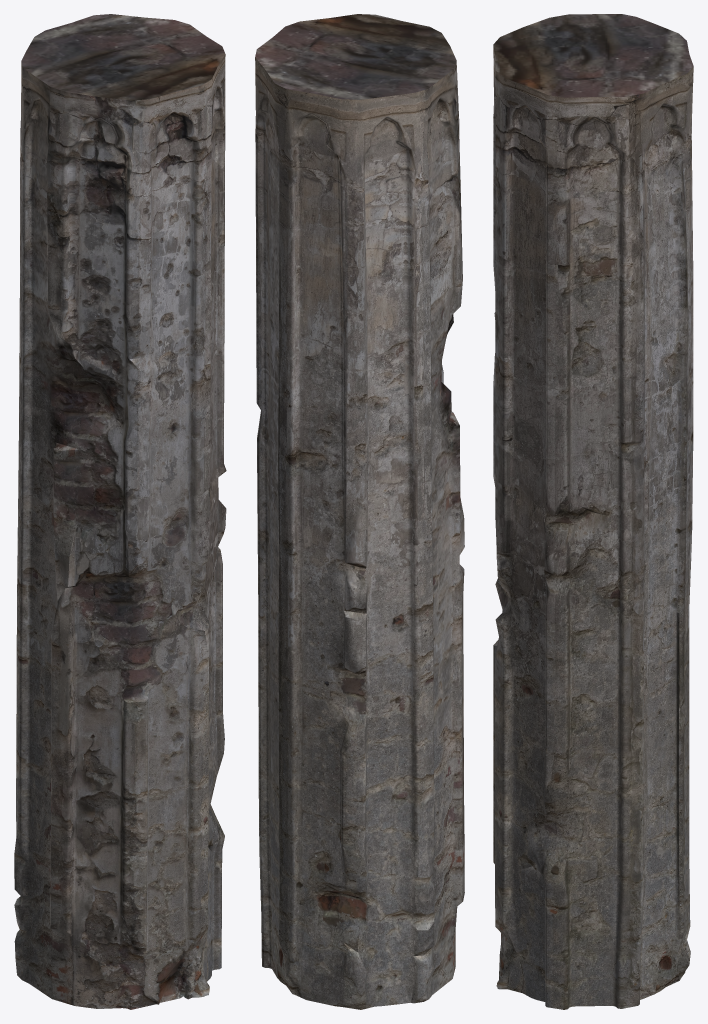
The model's file is SM_ChapelColumn_01_02.fbx.
3 renders of one model, left to right at view 1: azimuth 30°, elevation 25°; view 2: azimuth 150°, elevation 25°; view 3: azimuth 270°, elevation 25°, orthographic.
Visible parts, largest first — view 1: sm_ChapelColumn_01_02_LOD0; view 2: sm_ChapelColumn_01_02_LOD0; view 3: sm_ChapelColumn_01_02_LOD0.
Boxes of the visible parts, x1=… form: sm_ChapelColumn_01_02_LOD0: x1=14, y1=14, x2=226, y2=1009; sm_ChapelColumn_01_02_LOD0: x1=255, y1=14, x2=464, y2=1009; sm_ChapelColumn_01_02_LOD0: x1=493, y1=14, x2=693, y2=1009.
Bounding box in the file's own units: 74.57 × 75.86 × 375.
